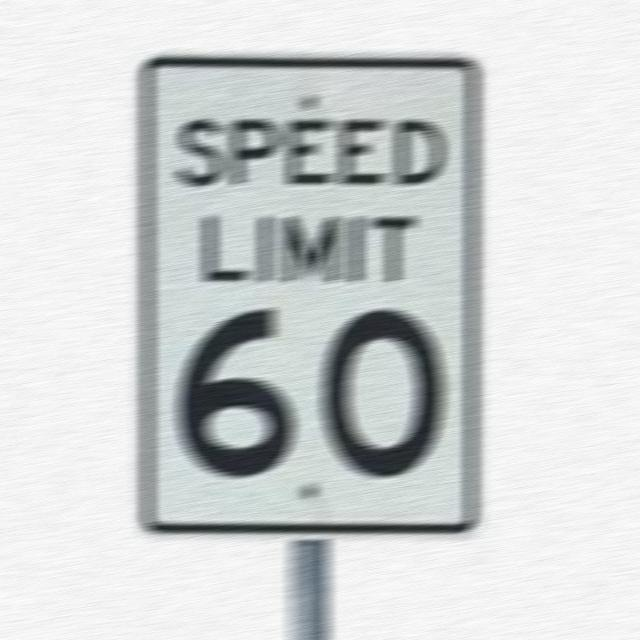speedLimit60: (128, 46, 491, 536)
